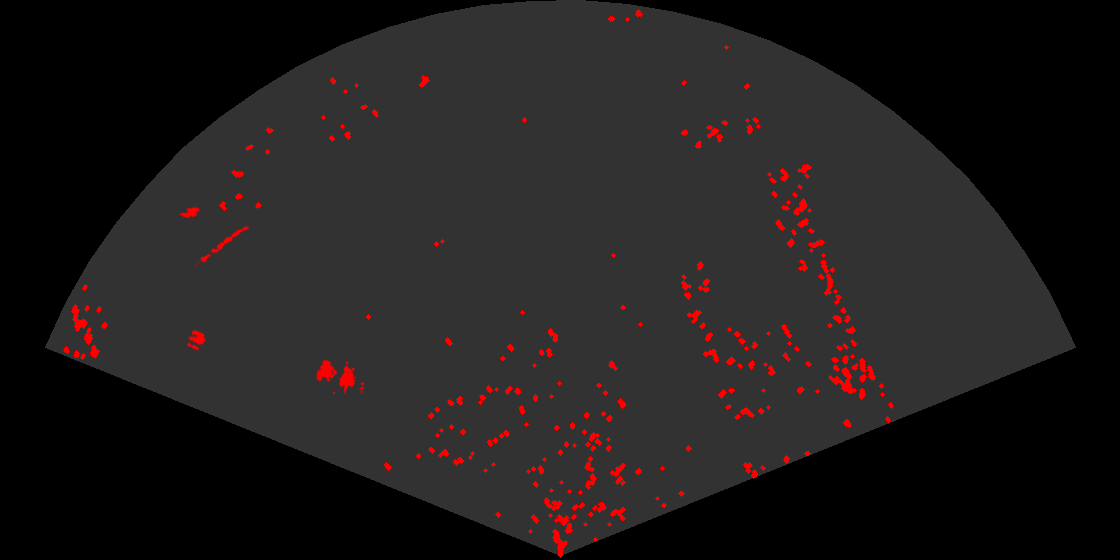AUV: (178, 205, 202, 219)
ball: (185, 328, 208, 352)
cage: (315, 358, 364, 394)
chain: (193, 224, 251, 267)
